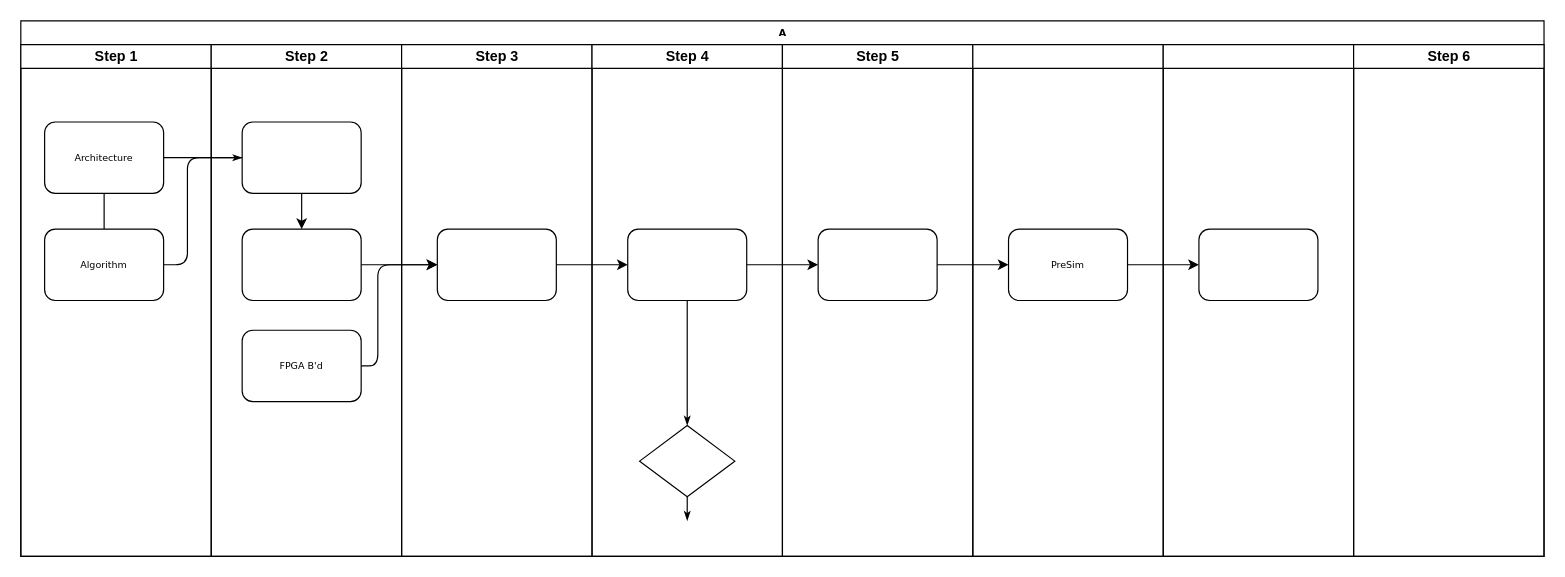
The diagram is 1565 pixels wide and 577 high, and some of its shapes have lost their labels. The centre of each missing label's shape, as x and y in pixels:
"1st SVP" goes at (x=687, y=264).
"Back-end" goes at (x=1258, y=264).
"Final SVP (Golden)" goes at (x=877, y=264).
"FPGA Test" goes at (x=496, y=264).
"RTL Design" goes at (x=301, y=157).
"Verification" goes at (x=301, y=264).
